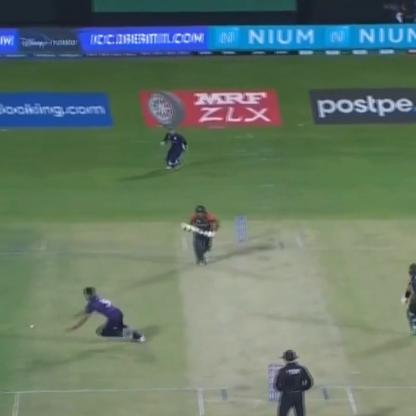ball: (23, 319, 35, 332)
pitch: (157, 224, 382, 416)
